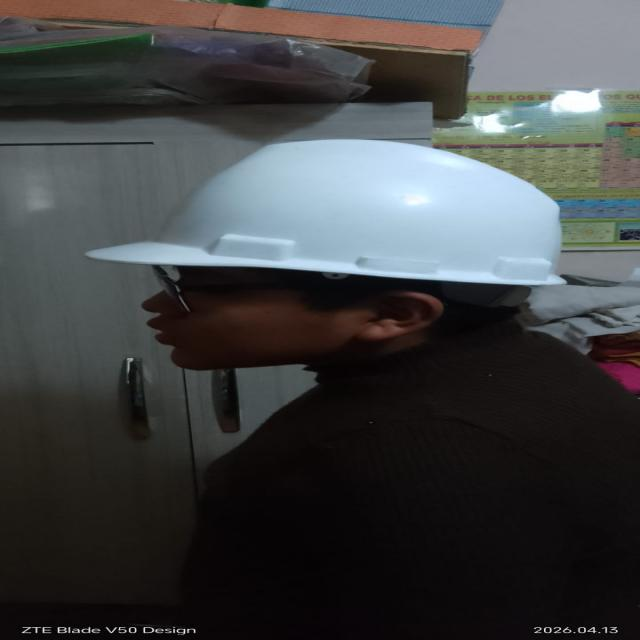casco: (83, 123, 597, 295)
